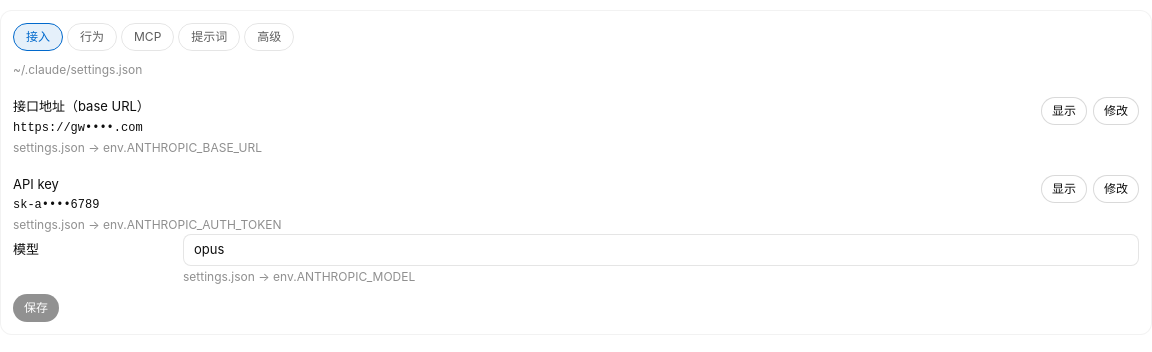
Test: RuntimeConfigPanel › explains when a CLI can't disable a single MCP server
This screenshot has width=1152, height=352.
Expected: the field showing "opus" is shown, [183,234,1139,266]
Click the tab "MCP" at [148, 37], box [121,23,174,51]
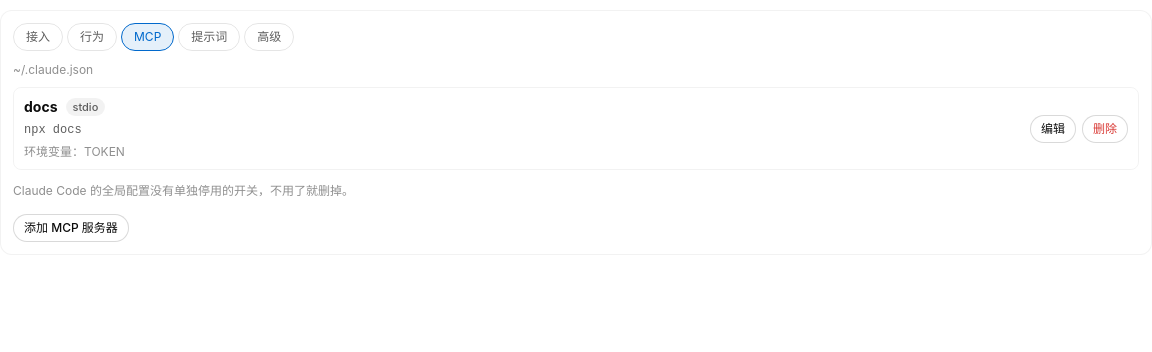
Result: the text "Claude Code 的全局配置没有单独停用的开关，不用了就删掉。" is shown at [13,183,354,198]
